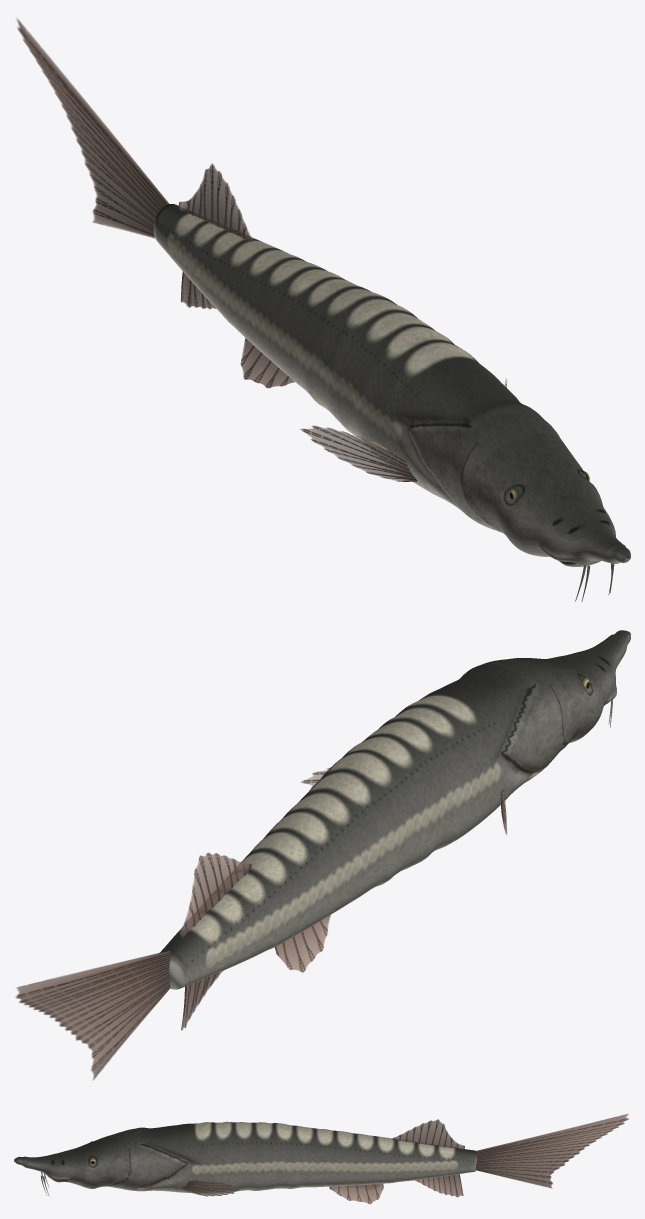
File: jesiotr.glb
3 views of the same model, one above another, from view 1: azimuth 30°, elevation 25°; view 2: azimuth 150°, elevation 25°; view 3: azimuth 270°, elevation 25° (orthographic). The views are drawn at different scales.
Visible parts, largest first — view 1: Body, FinCaudal, FinPectoral, FinDorsal1, FinPelvic; view 2: Body, FinCaudal, FinDorsal1, FinPelvic, FinAnal; view 3: Body, FinCaudal, FinDorsal1, FinPelvic, FinPectoral, FinAnal.
Boxes of the visible parts, x1,y1,x2,y2 form: Body: (153, 204, 630, 566); FinCaudal: (16, 18, 169, 238); FinPectoral: (300, 378, 507, 481); FinDorsal1: (178, 163, 252, 241); FinPelvic: (240, 338, 294, 388); Body: (160, 630, 630, 989); FinCaudal: (15, 950, 170, 1080); FinDorsal1: (179, 852, 251, 939); FinPelvic: (275, 915, 330, 972); FinAnal: (181, 971, 222, 1030); Body: (14, 1121, 476, 1192); FinCaudal: (475, 1114, 628, 1188); FinDorsal1: (392, 1119, 464, 1149); FinPelvic: (329, 1183, 383, 1204); FinPectoral: (183, 1179, 239, 1196); FinAnal: (414, 1174, 463, 1197).
Bounding box in the file's own units: 0.1962 × 0.1524 × 1.
9 materials, 8 textured.
